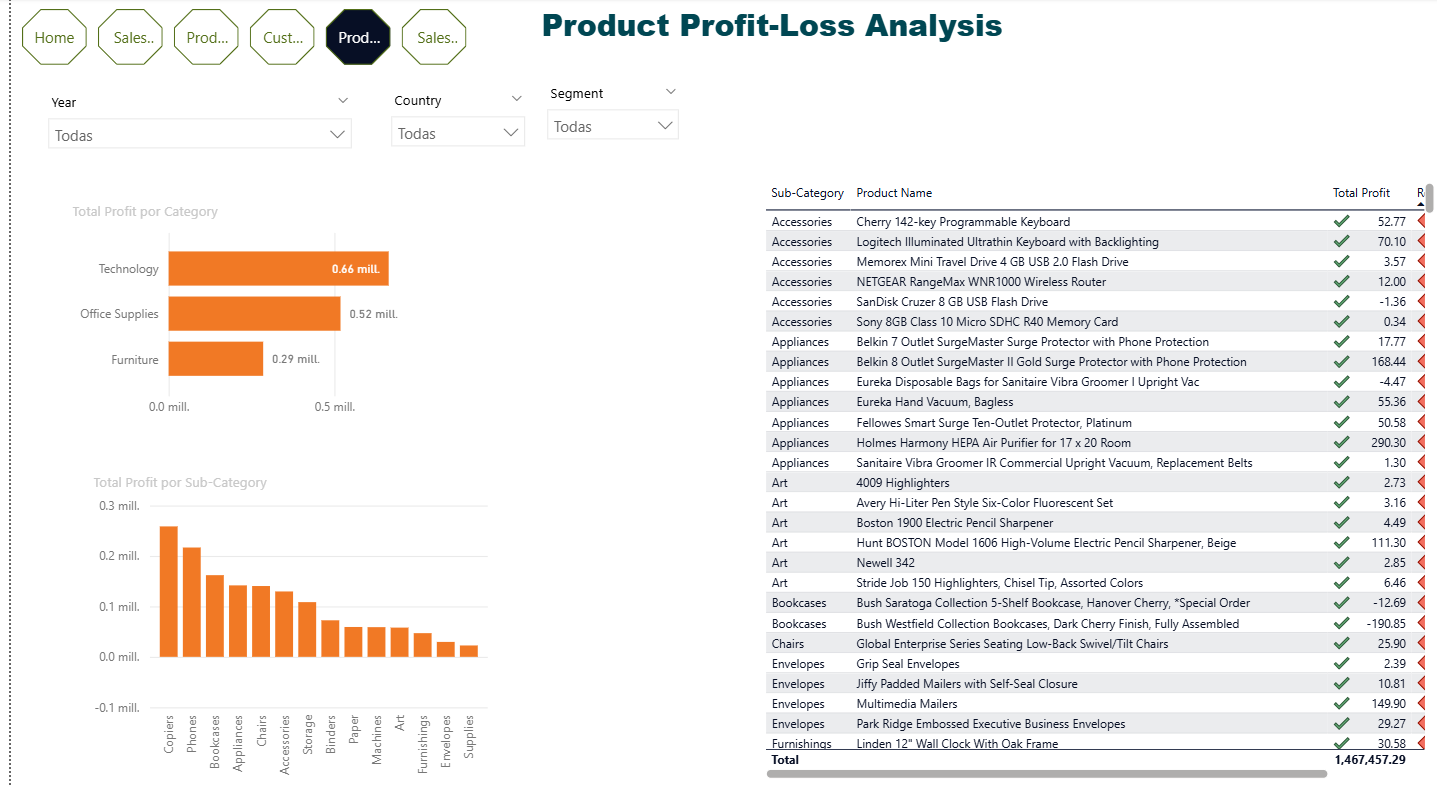

What the dashboard file says about the page in this screenshot:
{"tool":"powerbi","page":{"name":"Product Profit-Loss Analysis","canvas":[1280,720],"ordinal":4},"visuals":[{"type":"pageNavigator","box":[10,10,400,50],"z":0},{"type":"textbox","box":[470.6,0,631.2,58.6],"z":1000},{"type":"slicer","fields":{"Values":["Dim_SalesCalendar.Year"]},"box":[23.3,80,291.7,75],"z":4000},{"type":"slicer","fields":{"Values":["DIM_Geo.Country"]},"box":[330,78.3,140,75],"z":6000},{"type":"slicer","fields":{"Values":["DIM_Customer.Segment"]},"box":[470,71.7,138.3,88.3],"z":7000},{"type":"clusteredBarChart","fields":{"Y":["DIM_Customer.Total Profit"],"Category":["DIM_Product.Category"]},"box":[50,181.4,360,201.4],"z":10000},{"type":"columnChart","fields":{"Category":["DIM_Product.Sub-Category"],"Y":["DIM_Customer.Total Profit"]},"box":[68.6,424.3,362.9,295.7],"z":10001},{"type":"tableEx","fields":{"Values":["DIM_Product.Sub-Category","DIM_Product.Product Name","DIM_Customer.Total Profit","Fact_Sales.Order ID"]},"box":[670,160,610,544],"z":10002}]}

Visuals, with their boxes in screenshot pixels (x1, y1, x2, y2), scaled from the page's 1280x720 canvas onto the 1437x786 screenshot:
pageNavigator: BBox(11, 11, 460, 66)
textbox: BBox(528, 0, 1237, 64)
slicer - Dim_SalesCalendar.Year: BBox(26, 87, 354, 169)
slicer - DIM_Geo.Country: BBox(370, 85, 528, 167)
slicer - DIM_Customer.Segment: BBox(528, 78, 683, 175)
clusteredBarChart - DIM_Customer.Total Profit x DIM_Product.Category: BBox(56, 198, 460, 418)
columnChart - DIM_Product.Sub-Category x DIM_Customer.Total Profit: BBox(77, 463, 484, 785)
tableEx - DIM_Product.Sub-Category x DIM_Product.Product Name: BBox(752, 175, 1436, 769)
